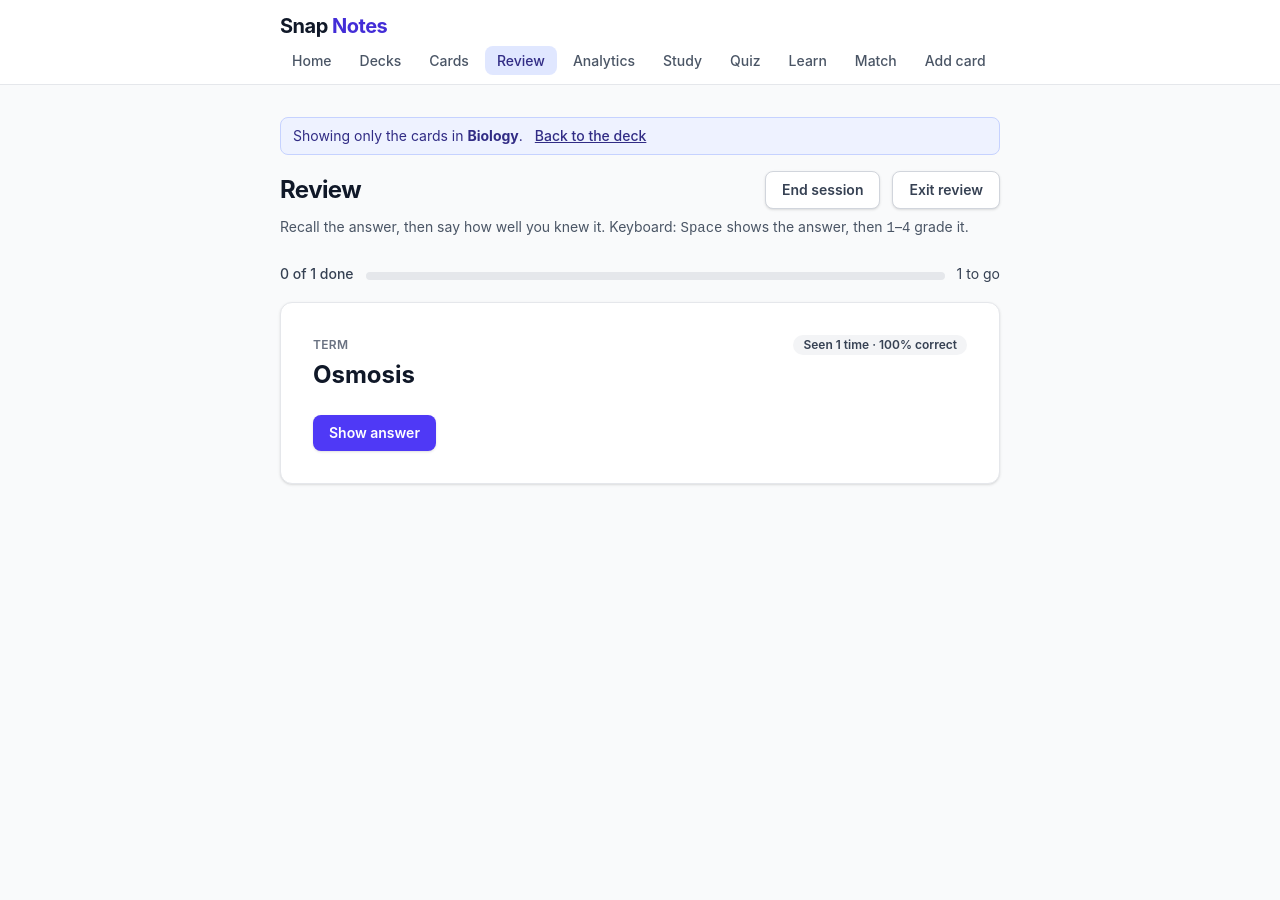
a review session › only reviews the deck in the link
Check: the heading "Osmosis" is shown, box [313,360,415,389]
Click the button "Show answer" at (374, 433), box [313,415,436,451]
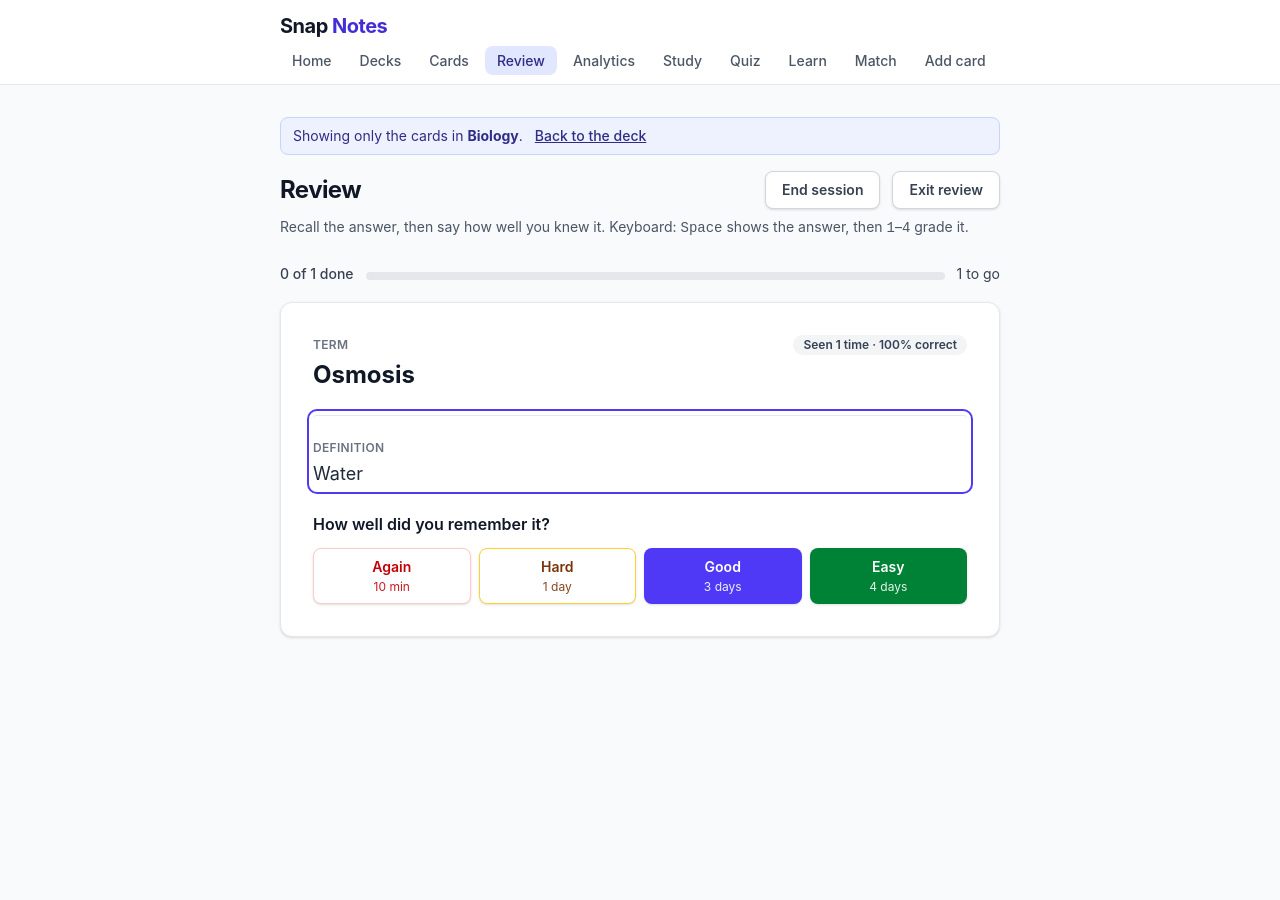
Click the button "Good 3 days" at (723, 576), box [644,548,802,604]
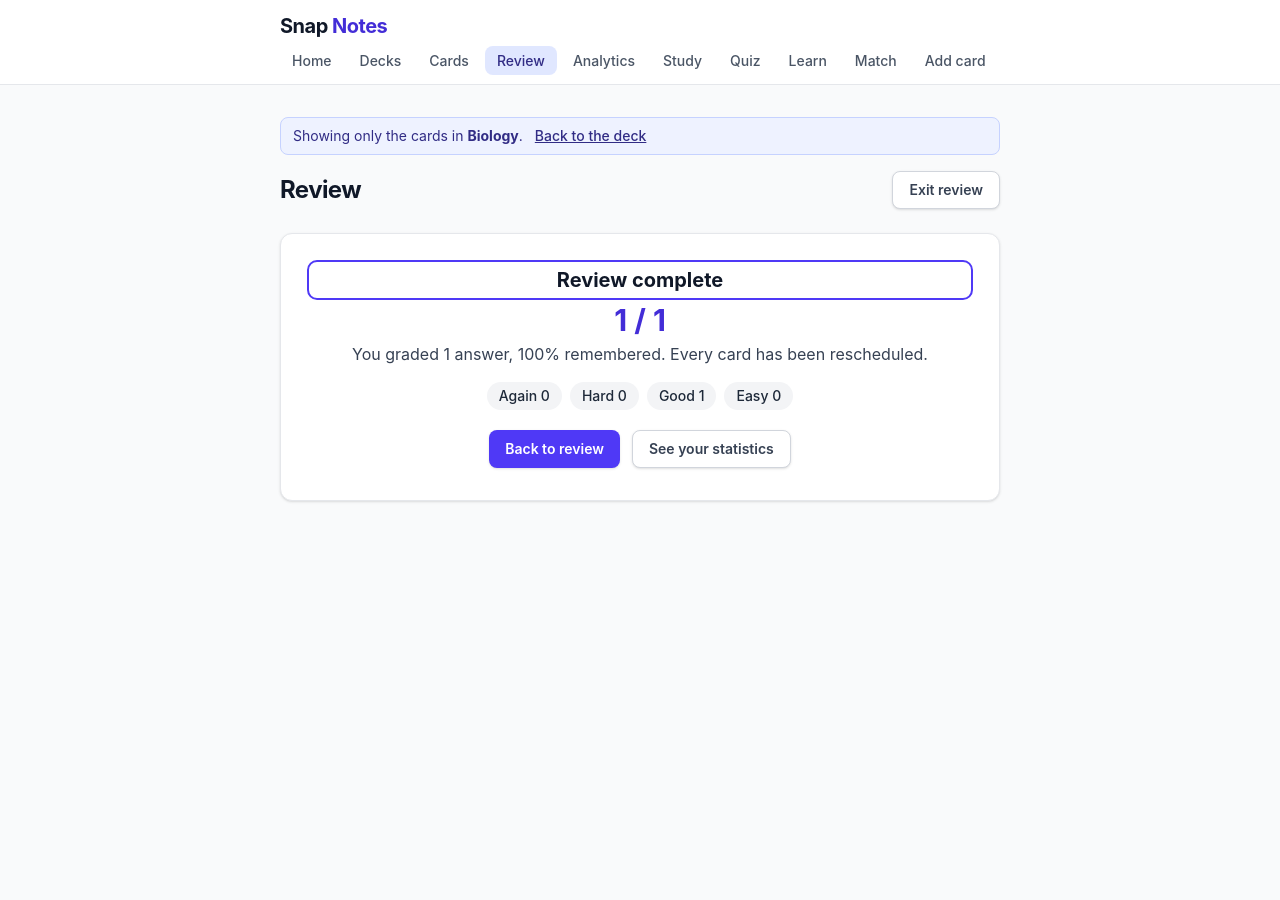
Check: the heading "Review complete" is shown, box [557,268,723,292]
